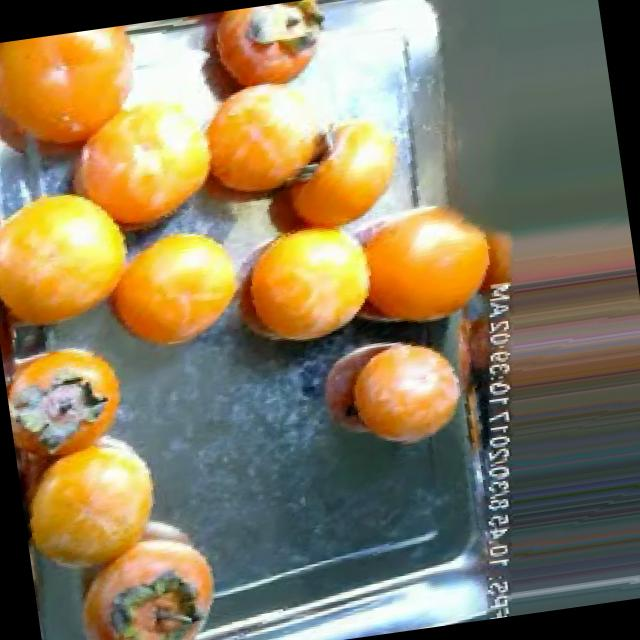Fruit: (204, 204, 390, 368), (80, 206, 264, 370), (0, 168, 160, 349), (306, 325, 475, 465), (4, 333, 138, 448)
